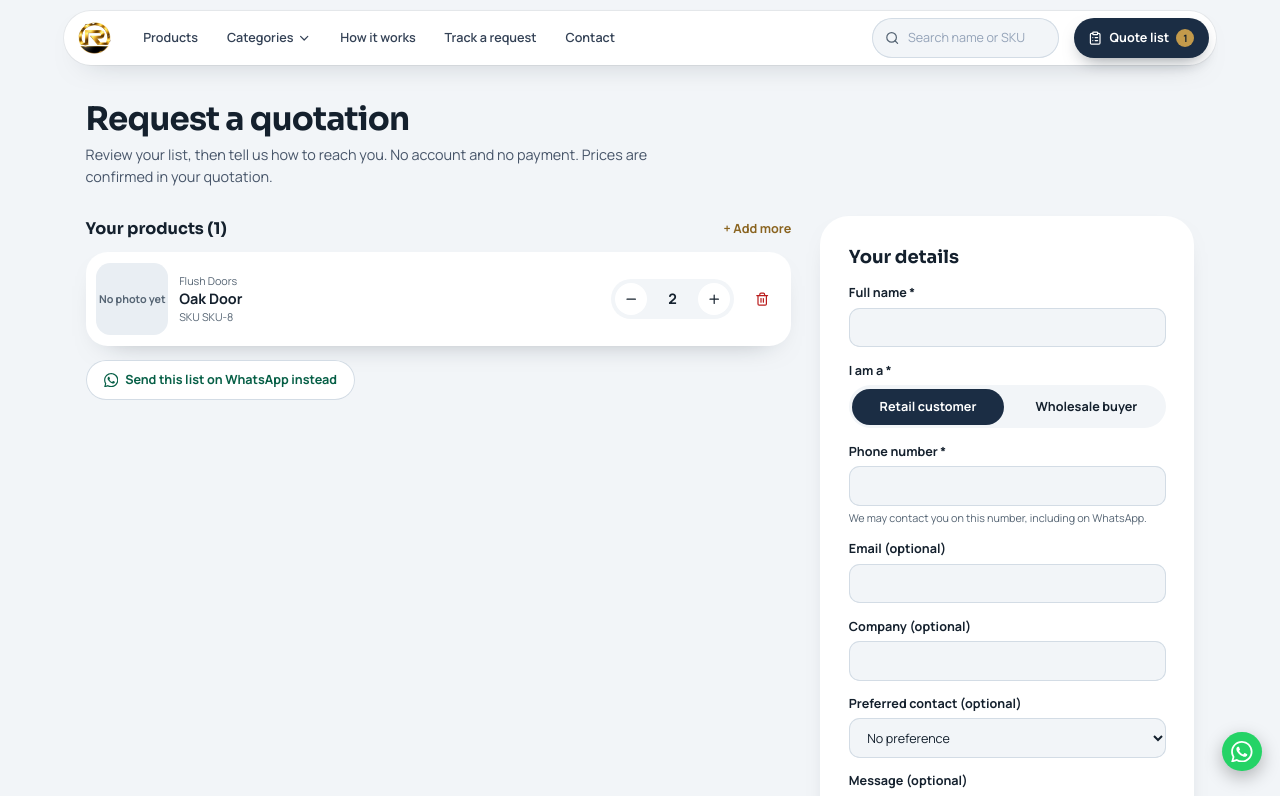
Test: a valid request is sent with product ids and quantities, shows the reference and clears the list
The image size is (1280, 796).
Type "Chinedu Okafor" into the field labelled "Full name *" at x=1007, y=328, box [849, 308, 1166, 347]
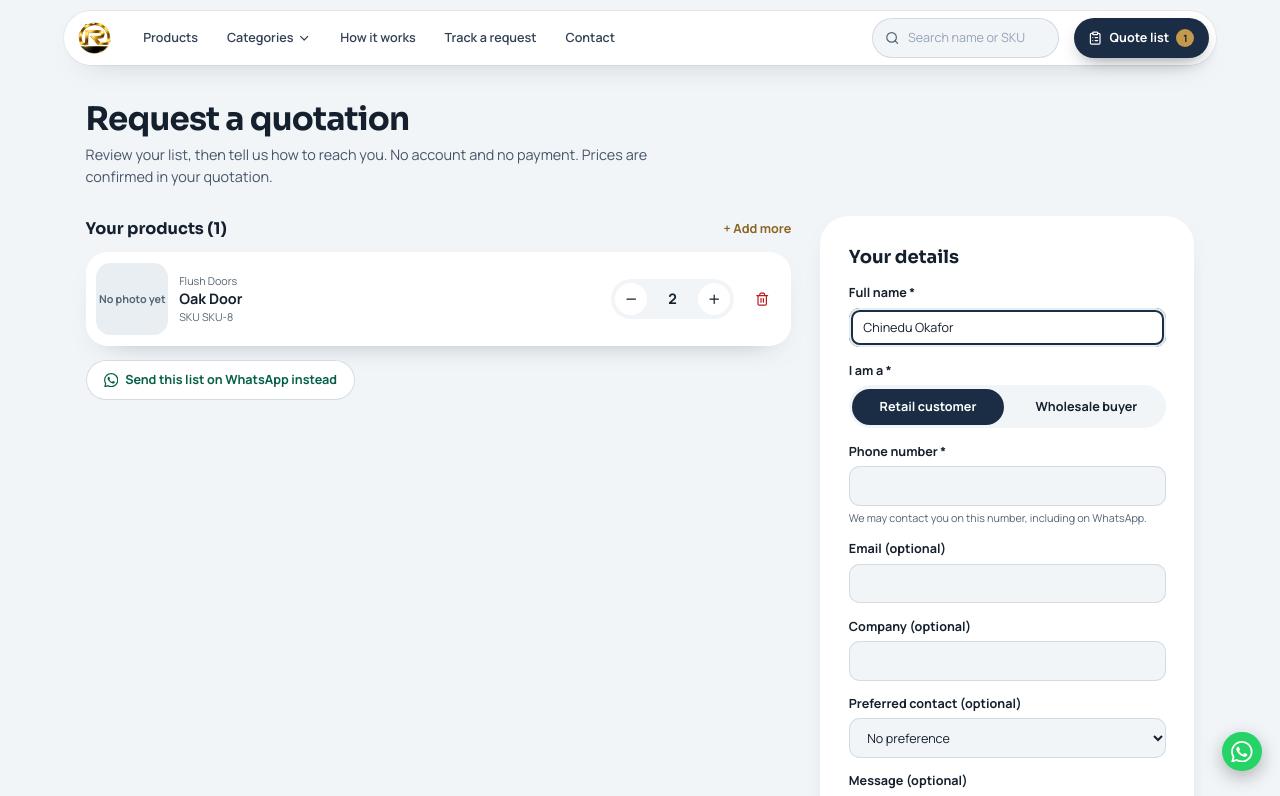
Type "08031234567" into the field labelled "Phone number *" at x=1007, y=486, box [849, 466, 1166, 506]
(page scrolled)
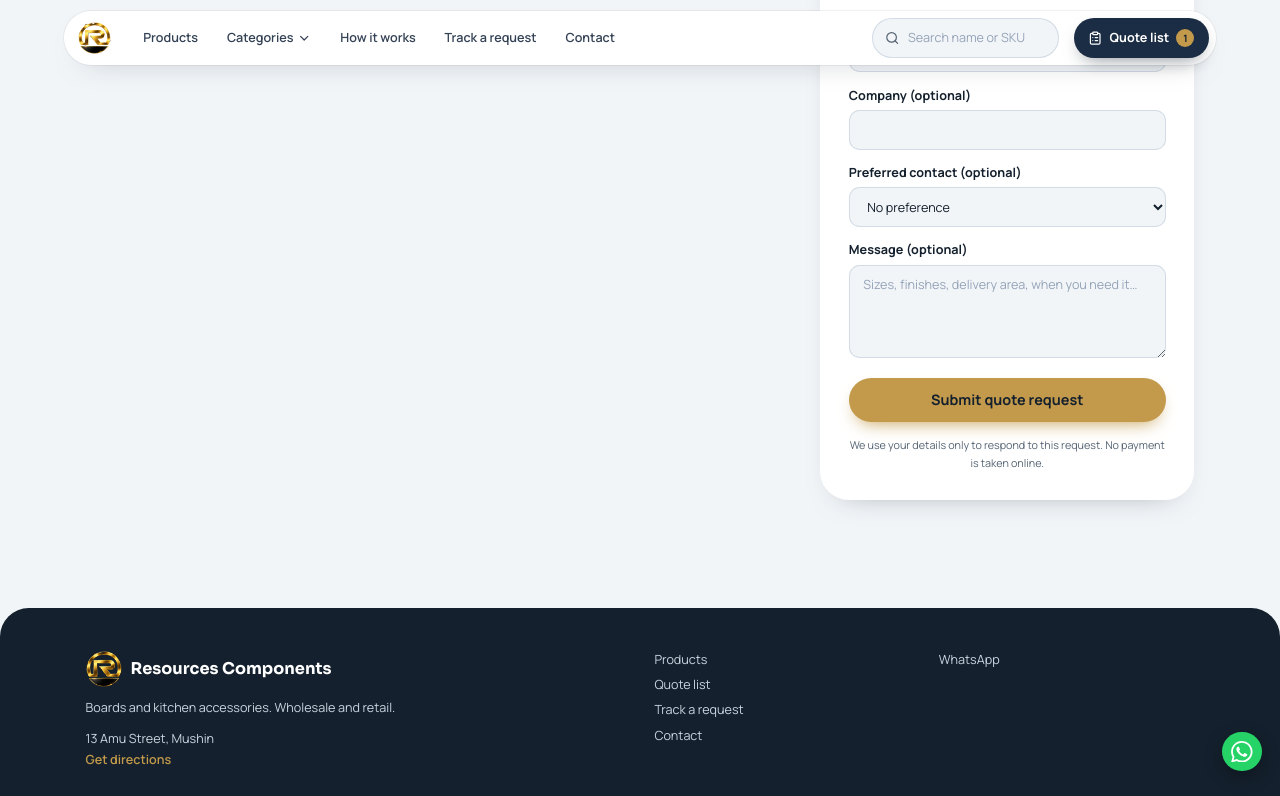
Click the button "Submit quote request" at x=1007, y=400, box [849, 378, 1166, 422]
(page scrolled)
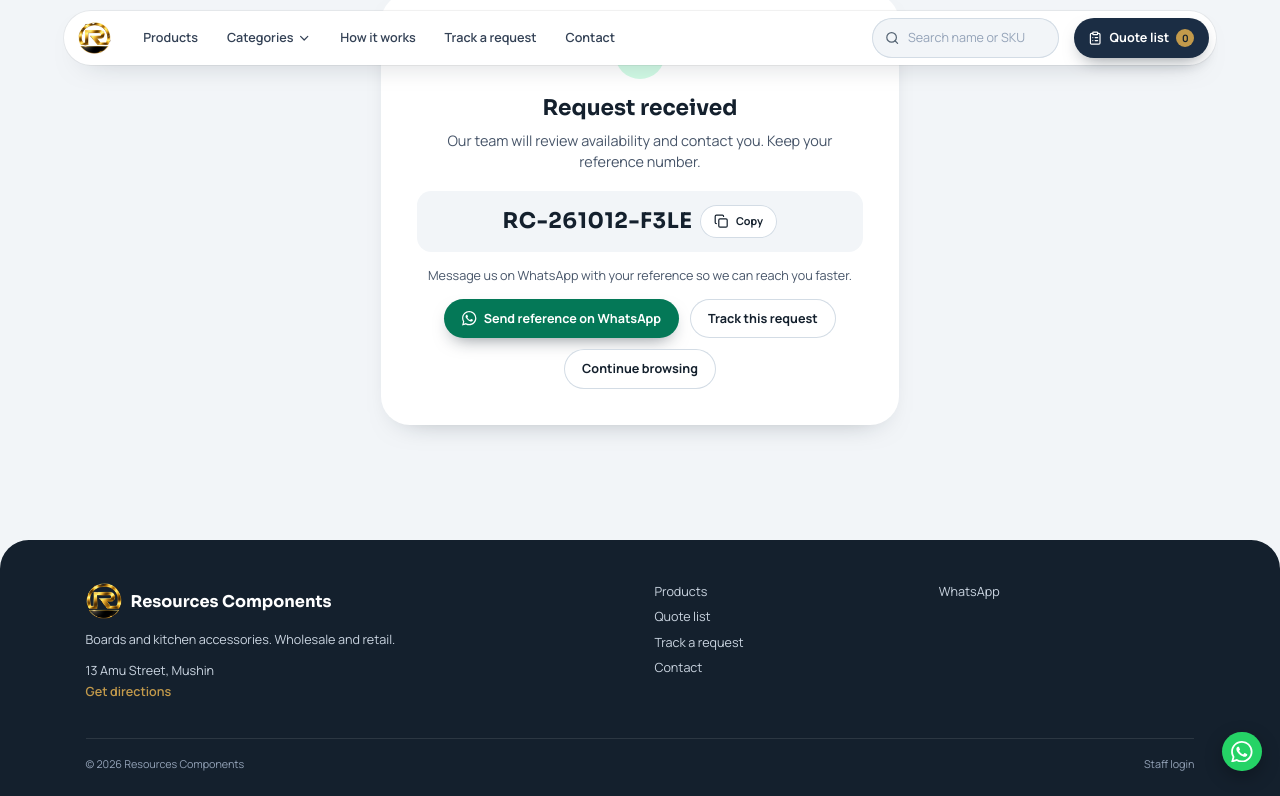
Now the text "RC-261012-F3LE" is shown, box [503, 207, 693, 236]
